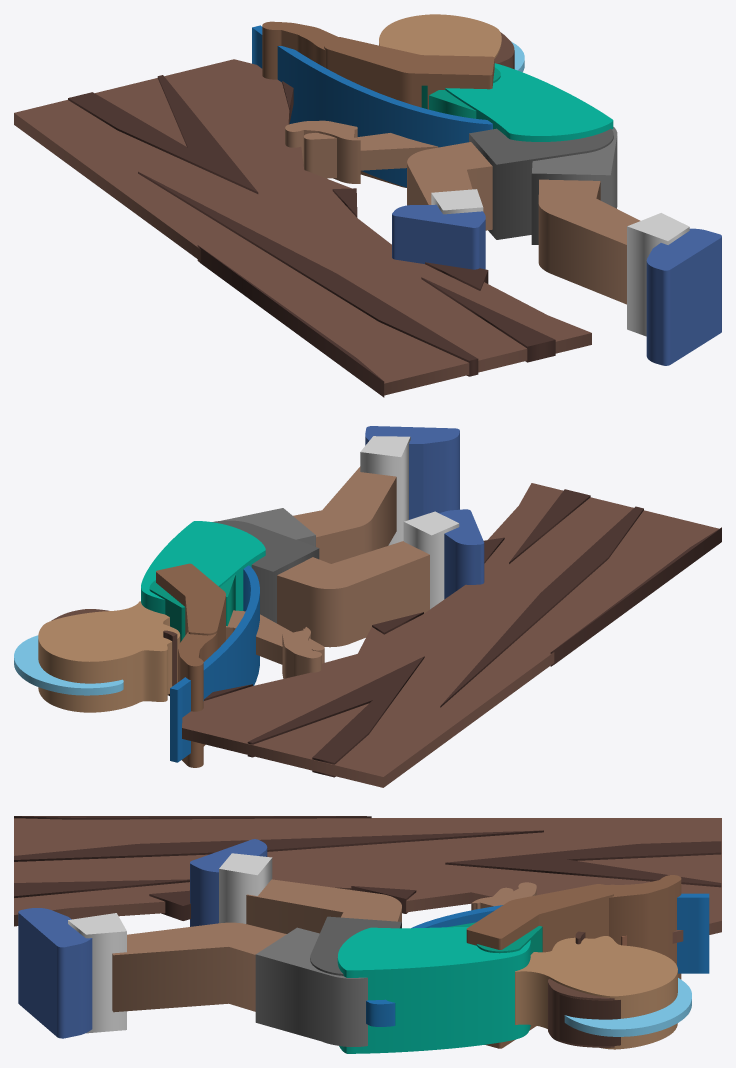
File: emoji_u1f9d7_1f3fd_200d_2642.glb
3 views of the same model, one above another, from view 1: azimuth 30°, elevation 25°; view 2: azimuth 150°, elevation 25°; view 3: azimuth 270°, elevation 25° (orthographic). The views are drawn at different scales.
Parts seen in each view (by area): view 1: emoji_u1f9d7_1f3fd_200d_2642; view 2: emoji_u1f9d7_1f3fd_200d_2642; view 3: emoji_u1f9d7_1f3fd_200d_2642.
Part boxes in pixels (x1,y1,x2,y2): emoji_u1f9d7_1f3fd_200d_2642: (14,14,721,397); emoji_u1f9d7_1f3fd_200d_2642: (14,426,721,787); emoji_u1f9d7_1f3fd_200d_2642: (14,816,721,1053).
Size of the model in its own units: 0.0237 by 0.0058 by 0.0338.
